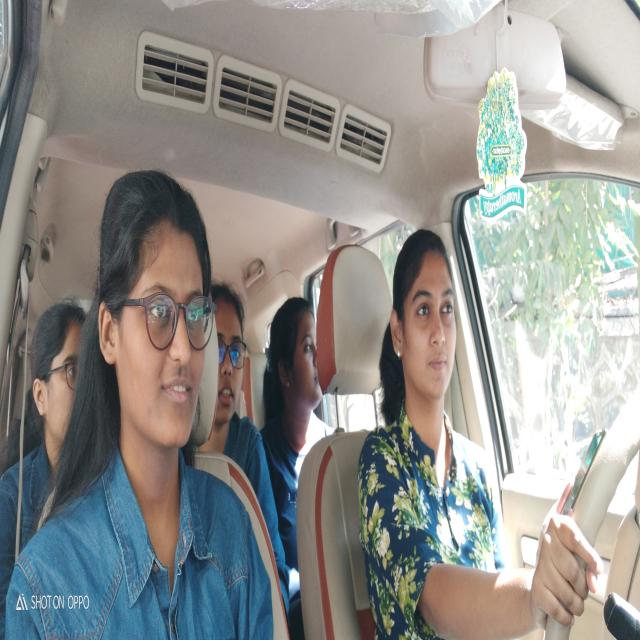person: (96, 168, 228, 470), (380, 224, 480, 451), (270, 271, 326, 468), (26, 298, 90, 446), (212, 259, 257, 450)
